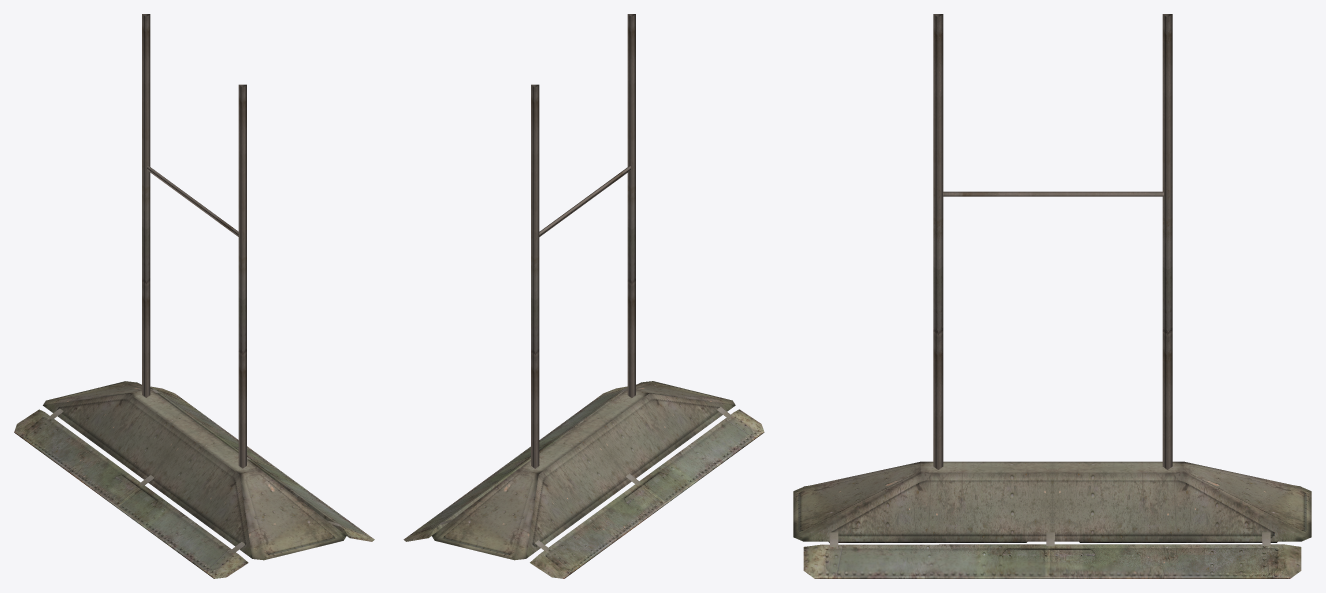
Rendered from LIT_CeilingLamp_B.FBX.
3 views of the same model, side by side, from view 1: azimuth 30°, elevation 25°; view 2: azimuth 150°, elevation 25°; view 3: azimuth 270°, elevation 25° (orthographic). The views are drawn at different scales.
Parts seen in each view (by area): view 1: LIT_CeilingLamp_B; view 2: LIT_CeilingLamp_B; view 3: LIT_CeilingLamp_B.
Part boxes in pixels (x1,y1,x2,y2): LIT_CeilingLamp_B: [14, 14, 374, 578]; LIT_CeilingLamp_B: [403, 14, 764, 578]; LIT_CeilingLamp_B: [793, 14, 1311, 578].
Bounding box in the file's own units: 85.12 × 220 × 200.
1 material, 1 textured.
